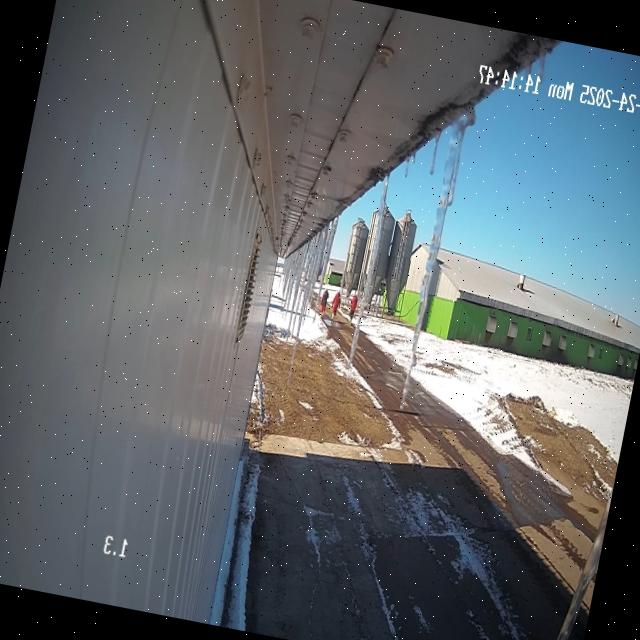Red uniform: (331, 291, 341, 320), (320, 290, 329, 320), (349, 293, 357, 322)
